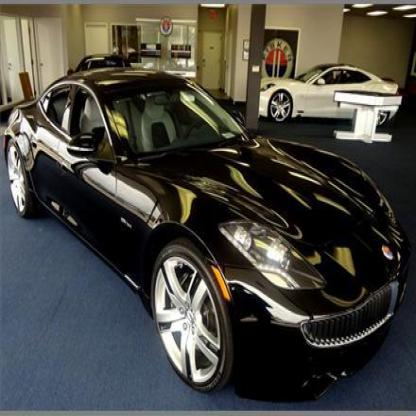Vehicle: (2, 66, 412, 408)
